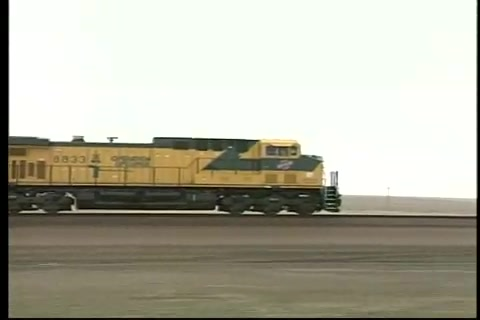train: (10, 129, 343, 219)
